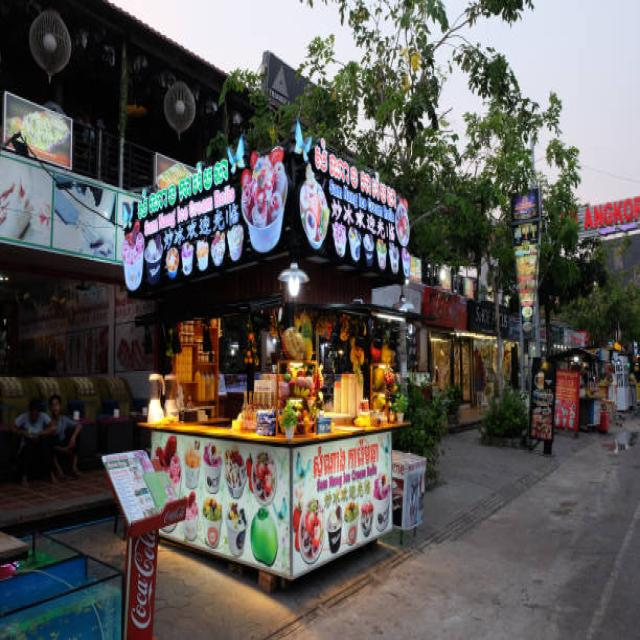Emperan: (103, 113, 432, 610)
